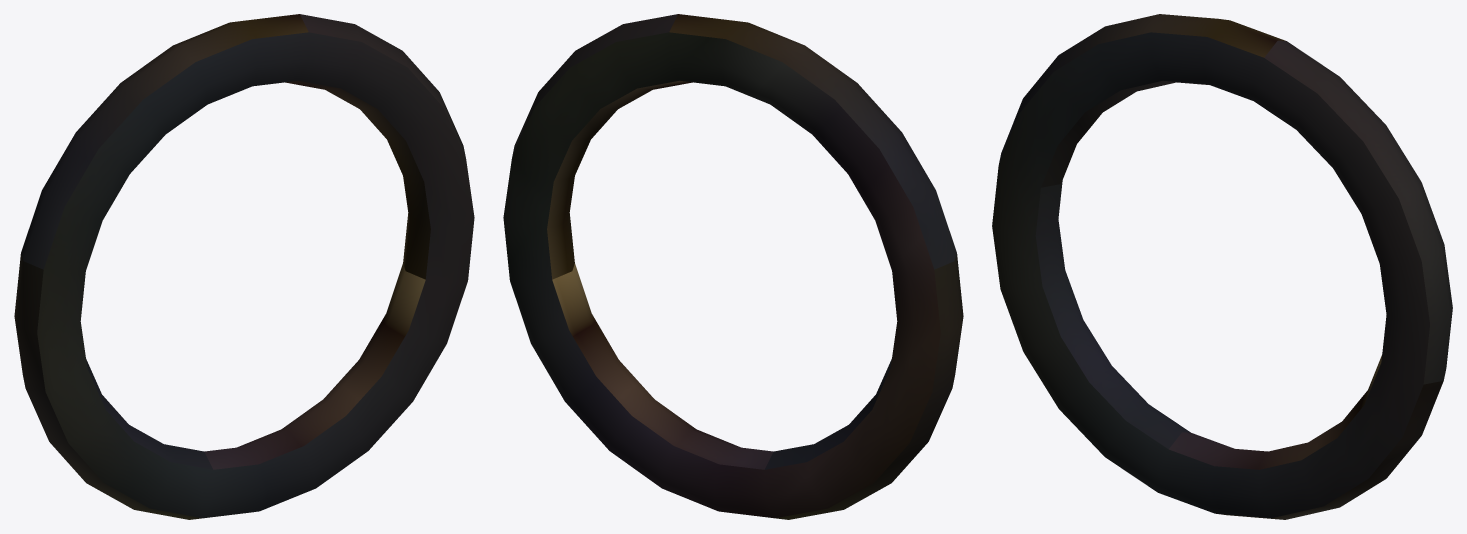
File: handle-4.glb
The picture shows the model from 3 angles, left to right: view 1: azimuth 30°, elevation 25°; view 2: azimuth 150°, elevation 25°; view 3: azimuth 330°, elevation 25°; orthographic projection.
Visible parts, largest first — view 1: world; view 2: world; view 3: world.
Part boxes in pixels (bbox=[...]): world: bbox=[14, 14, 474, 519]; world: bbox=[503, 14, 963, 519]; world: bbox=[992, 14, 1452, 519].
Bounding box in the file's own units: 0.0314 × 0.0326 × 0.00384.
Materials: 1 (1 with a texture image).
